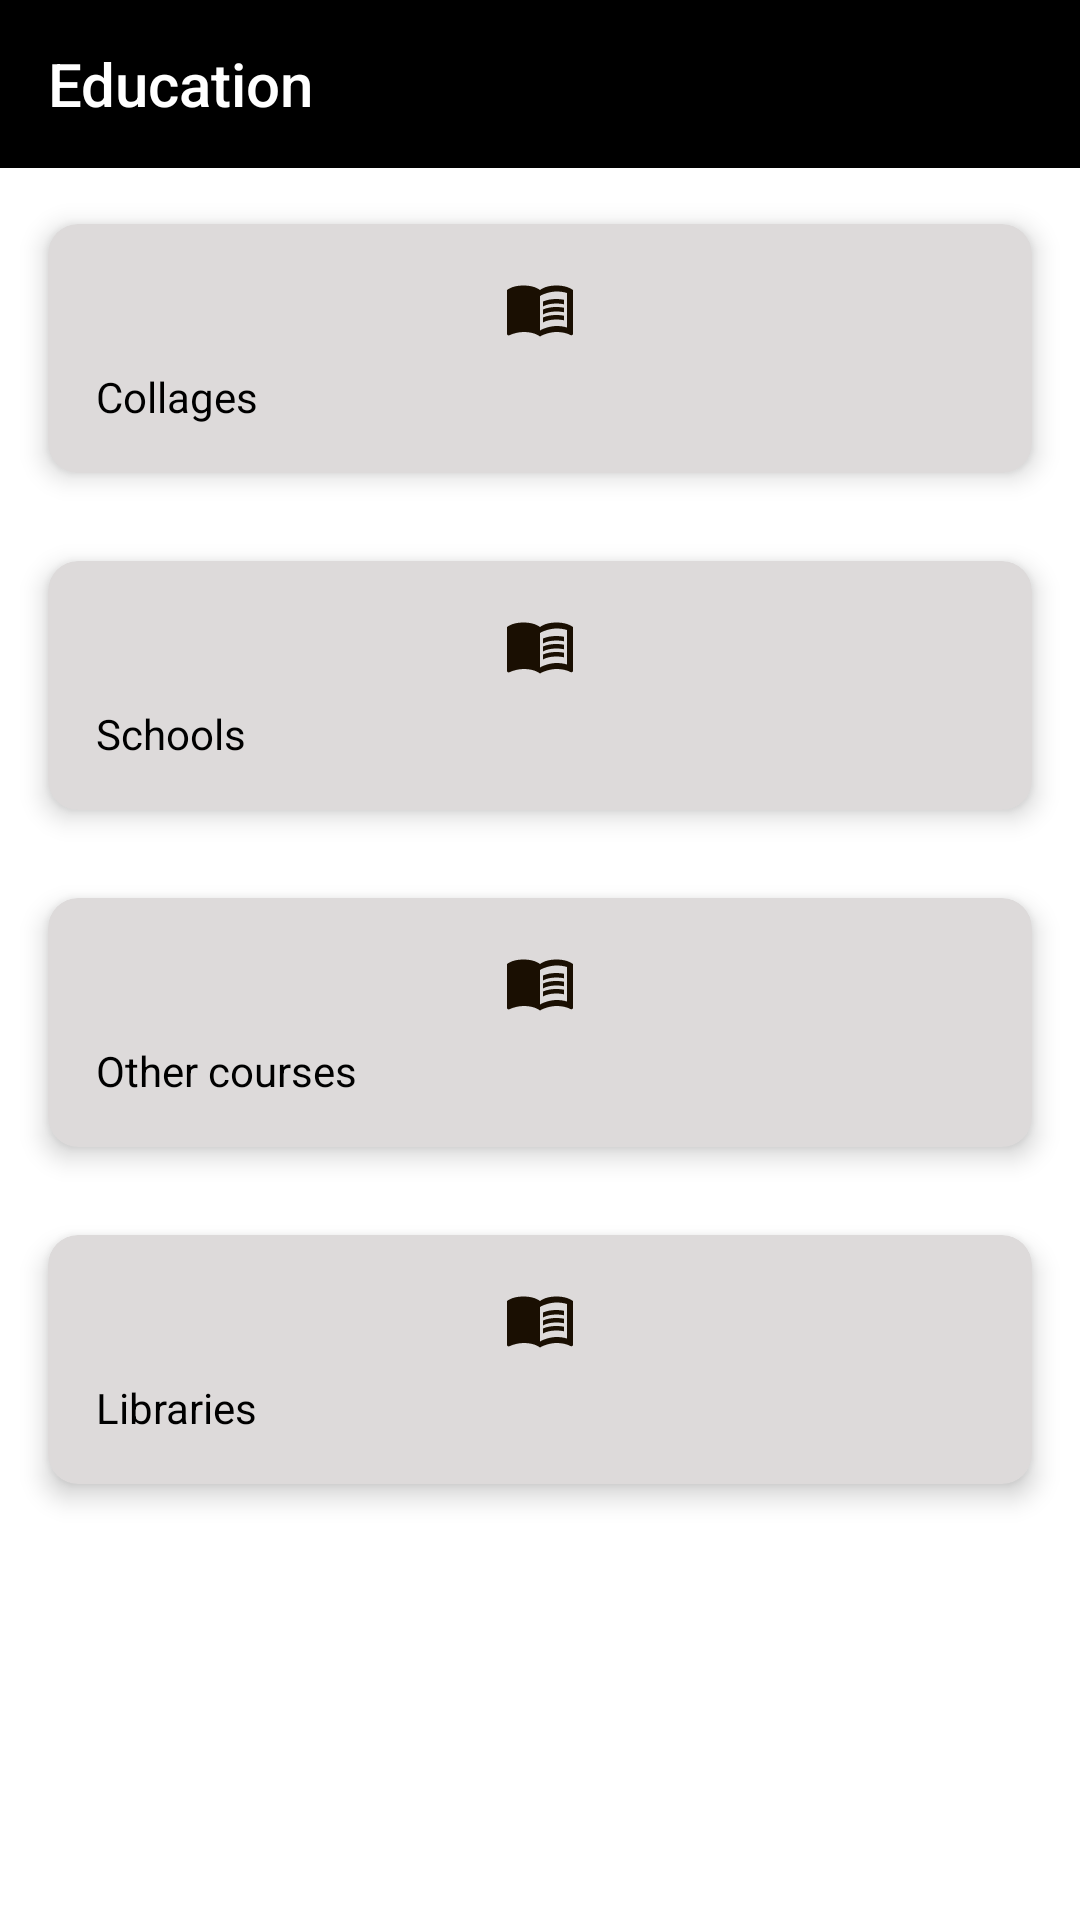

Where to tap for icons on this 1080w x 1920h app screen, as (x=x, y=y):
book: (x=540, y=311), (x=540, y=648), (x=540, y=985), (x=540, y=1322)
